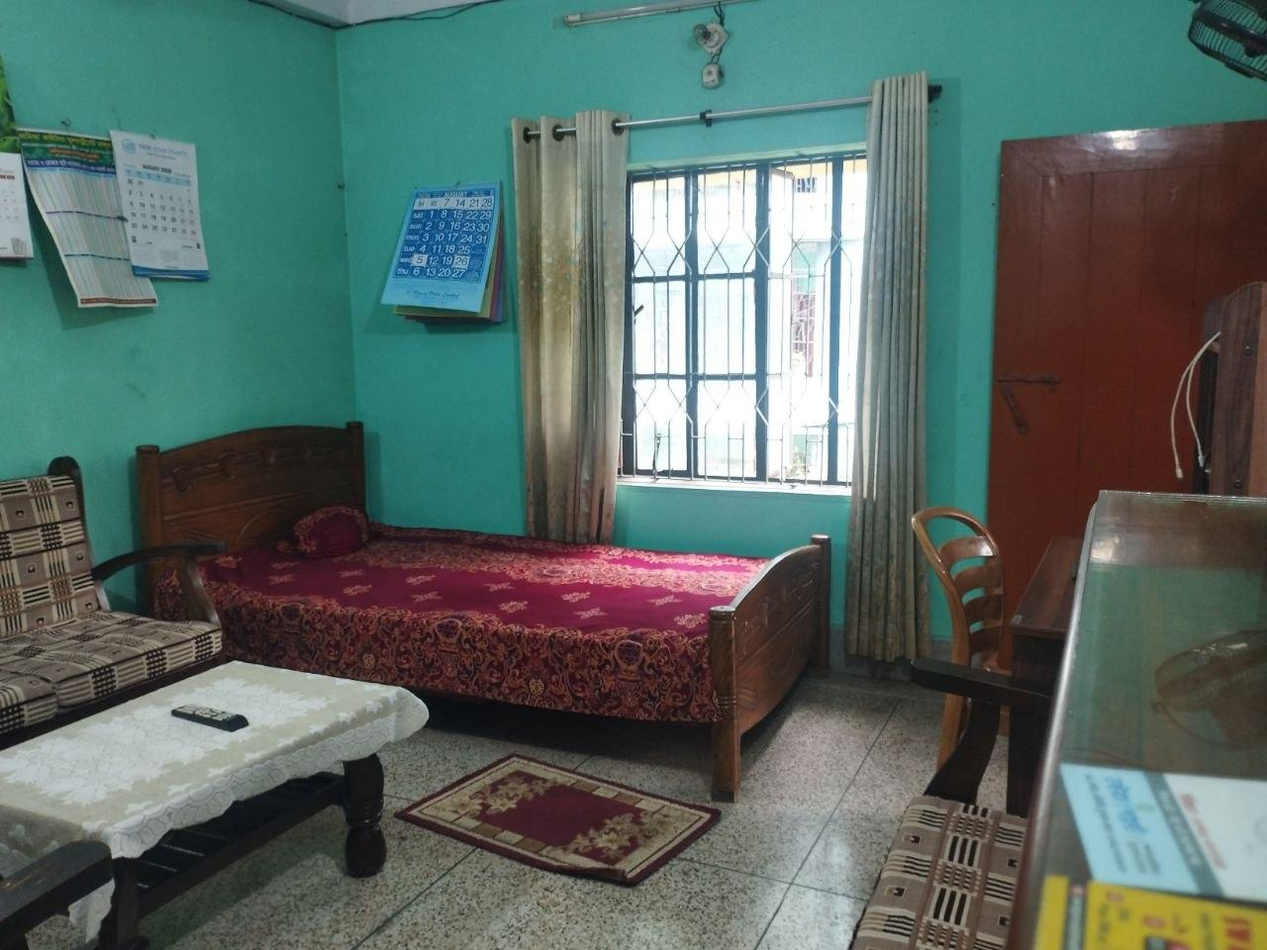Chair: (902, 497, 1016, 792)
Door: (994, 133, 1267, 756)
Fan: (1156, 0, 1267, 92)
Floor Mat: (381, 742, 732, 887)
Light: (674, 12, 744, 56)
Pillow: (252, 463, 405, 572)
Remote: (153, 698, 255, 739)
Table: (0, 645, 425, 950)
Window: (606, 158, 878, 480)
